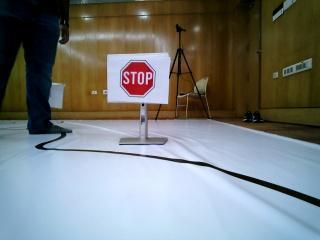stop: (117, 52, 176, 103)
